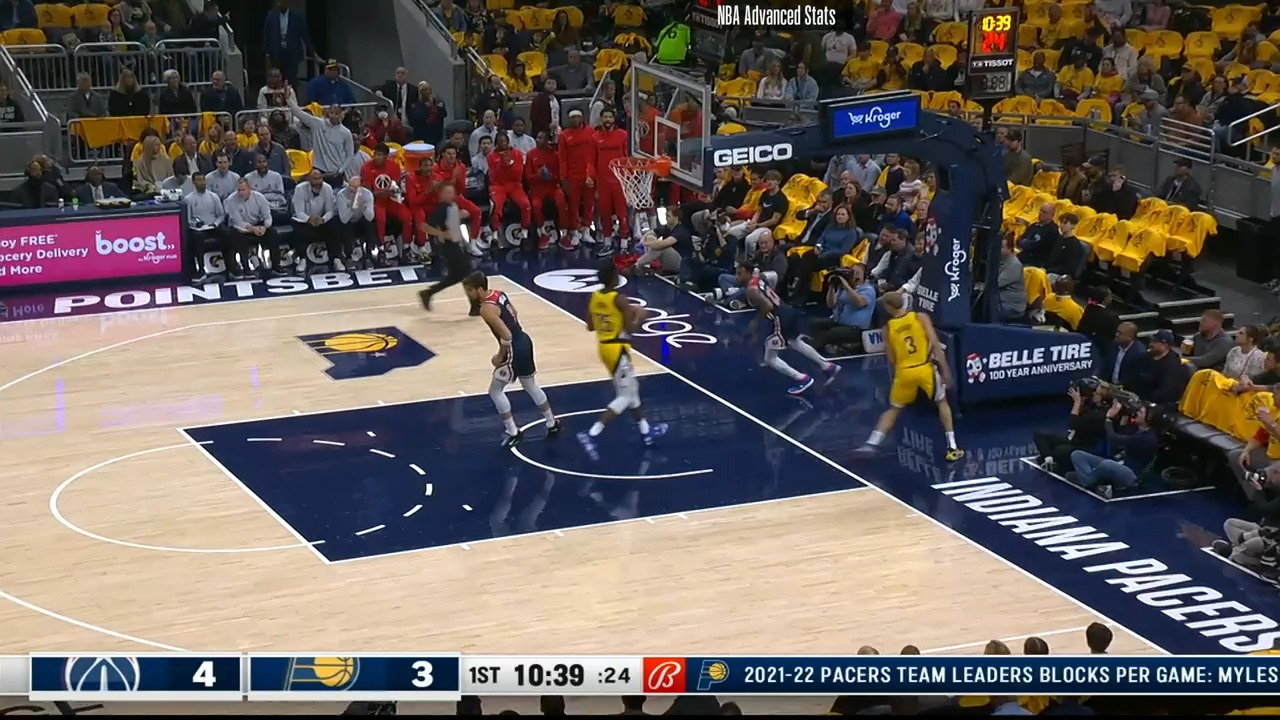net: (610, 150, 674, 208)
player: (462, 269, 562, 450), (860, 282, 956, 466), (577, 264, 658, 461), (734, 255, 837, 395)
referee: (417, 181, 485, 320)
